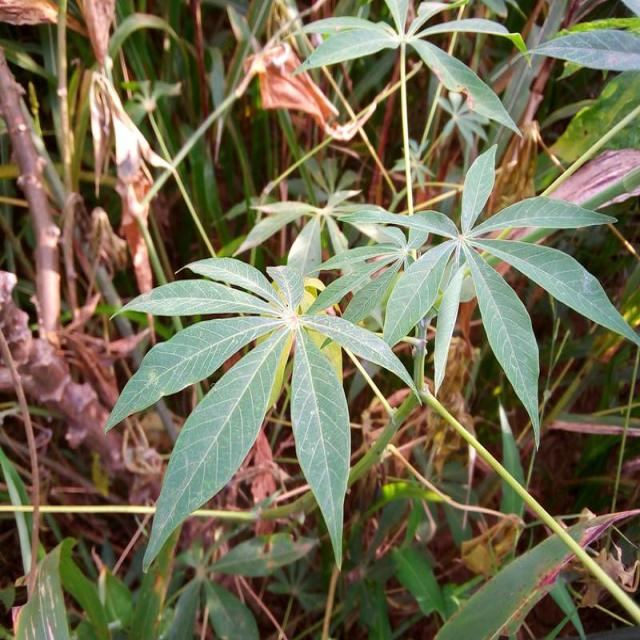cassava leaf: (104, 249, 422, 574), (316, 142, 638, 449)
